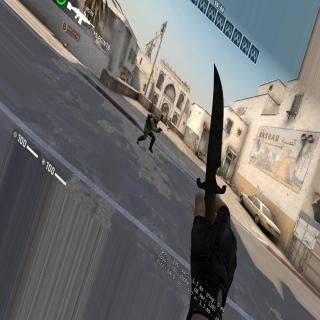CT-Body: (143, 113, 162, 144)
CT-Head: (154, 115, 160, 124)
